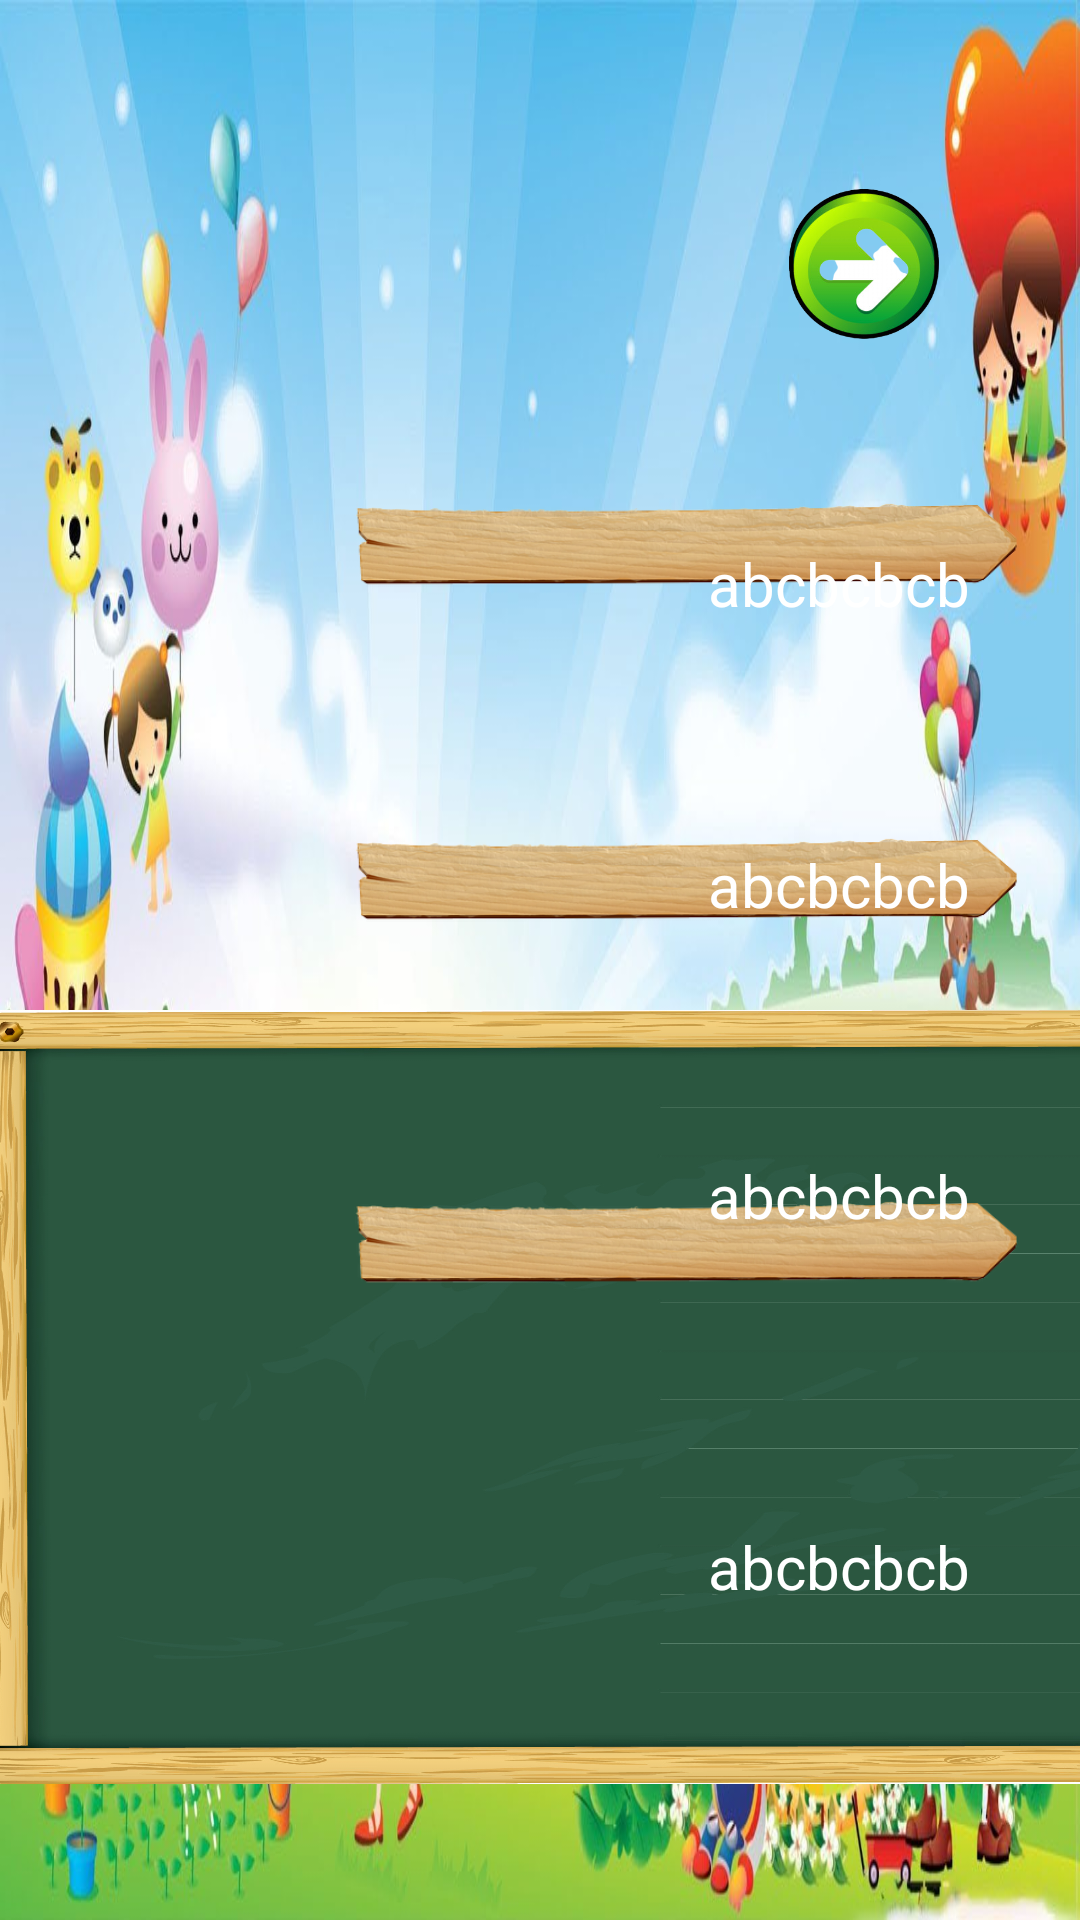

Locate icon controls on the screen. Image size 1080x1920, boxes as (x1, y1, x2, y2).
imgright: (789, 189, 939, 339)
